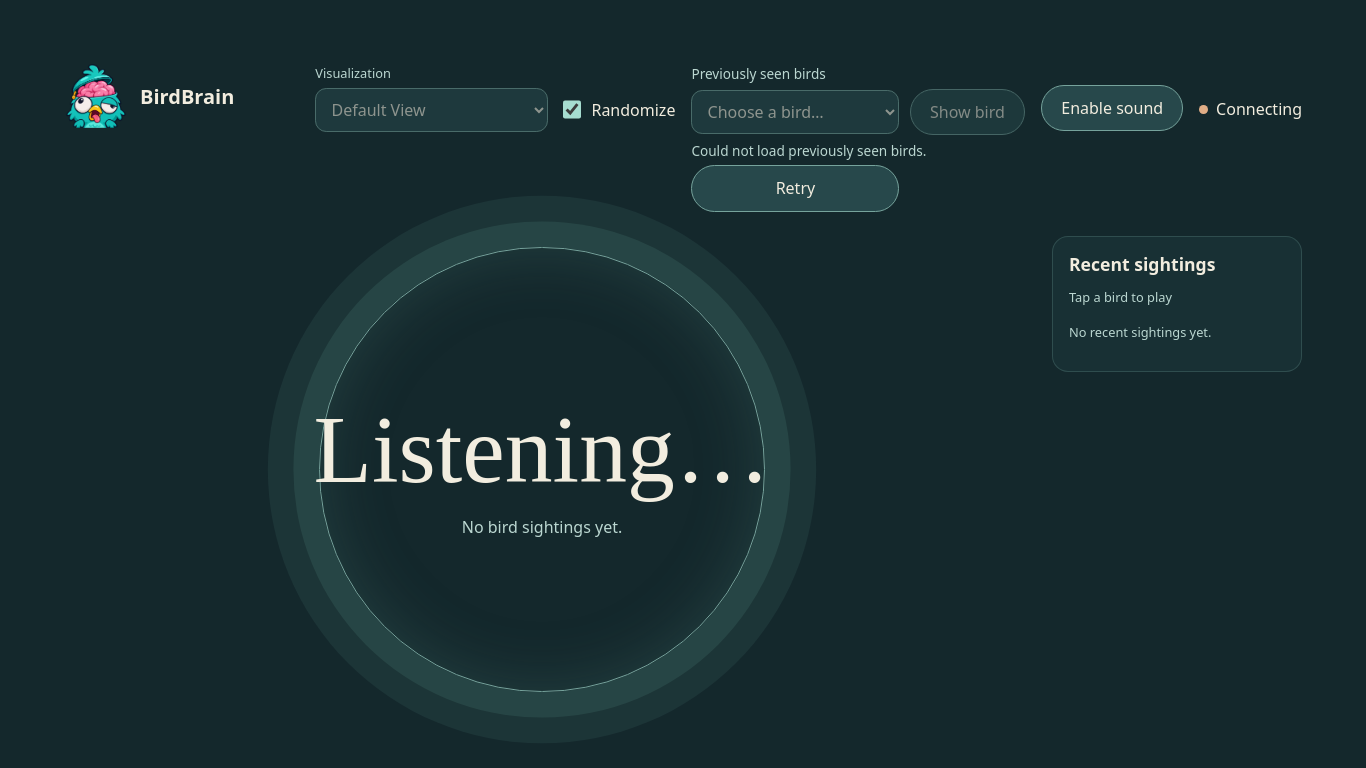
Test: history errors can be retried without interrupting the event stream
Click the button with id "retry-history". click: (795, 188)
box: [691,165,899,212]
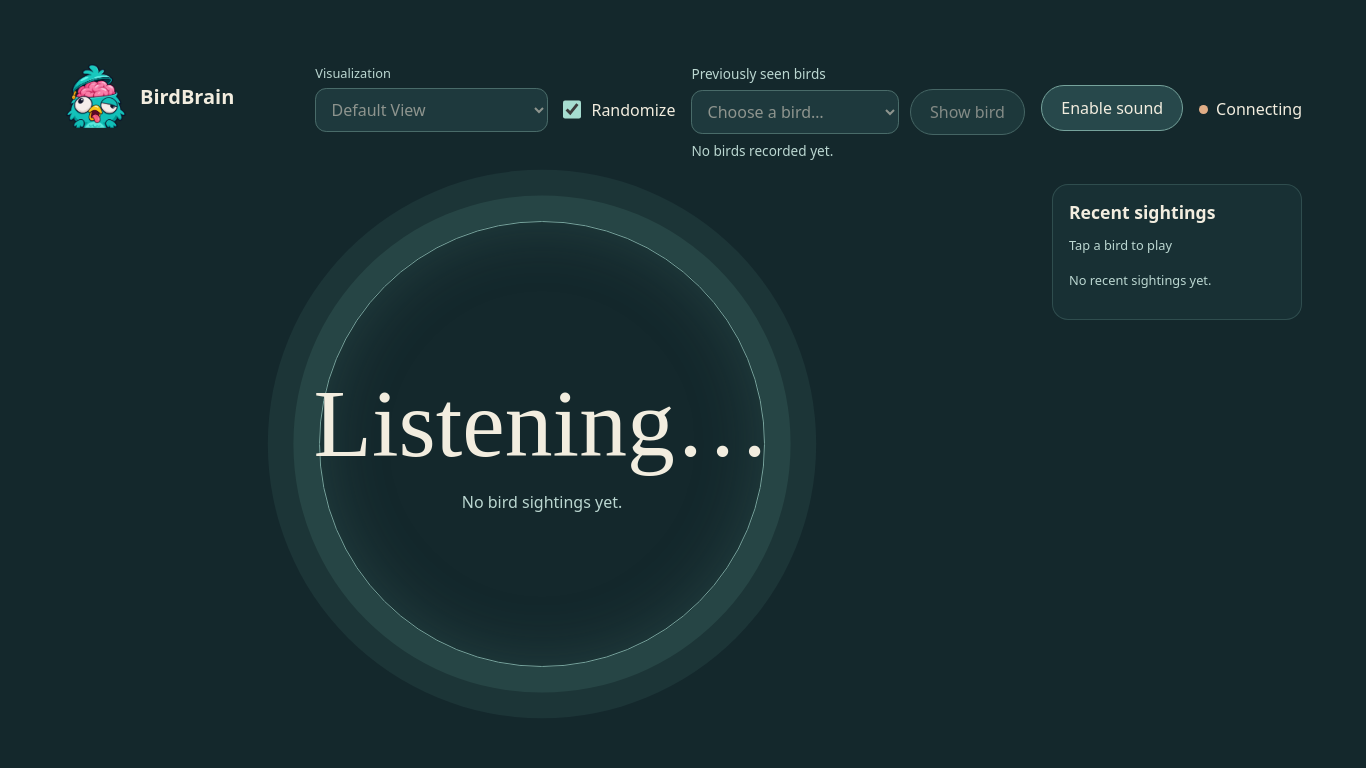
Expected: the text with class "history-status" reads "No birds recorded yet.", [691,141,833,160]
